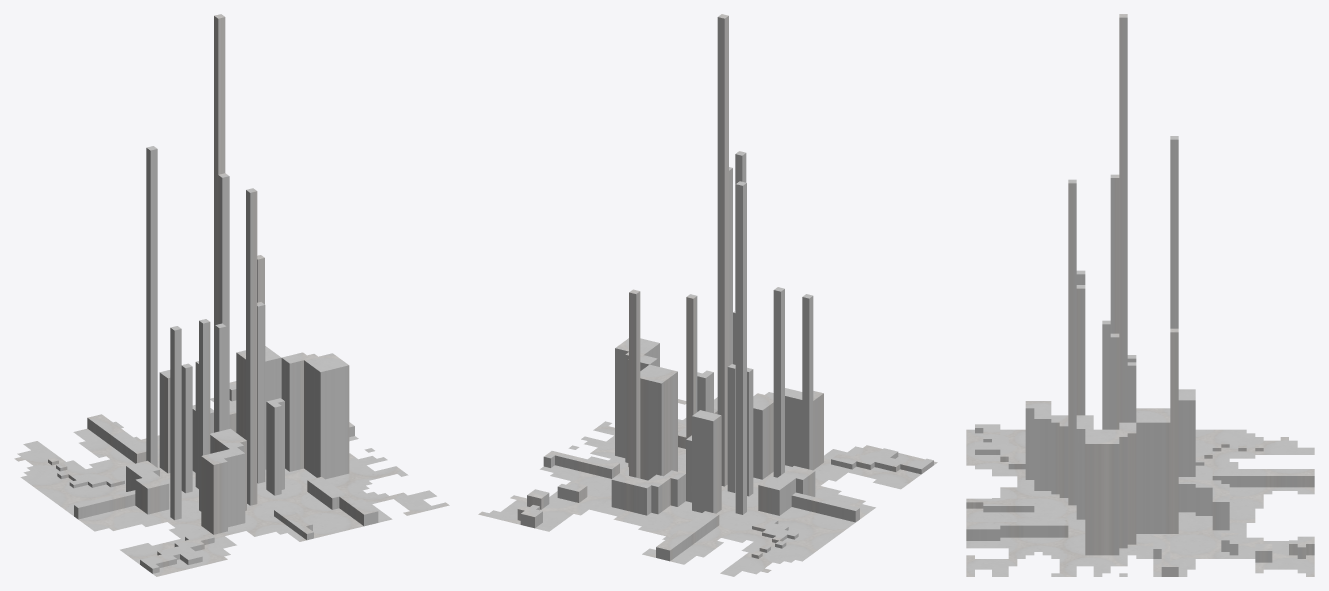
The model's file is eskleocity-01.glb.
The picture shows the model from 3 angles, left to right: view 1: azimuth 30°, elevation 25°; view 2: azimuth 150°, elevation 25°; view 3: azimuth 270°, elevation 25°; orthographic projection. The views are drawn at different scales.
Visible parts, largest first — view 1: Cube; view 2: Cube; view 3: Cube.
Part boxes in pixels (left/top/right/bottom): Cube: left=14, top=14, right=449, bottom=576; Cube: left=478, top=14, right=937, bottom=576; Cube: left=966, top=14, right=1314, bottom=576.
Size of the model in its own units: 7.99 by 12.25 by 7.99.
Materials: 1 (1 with a texture image).
